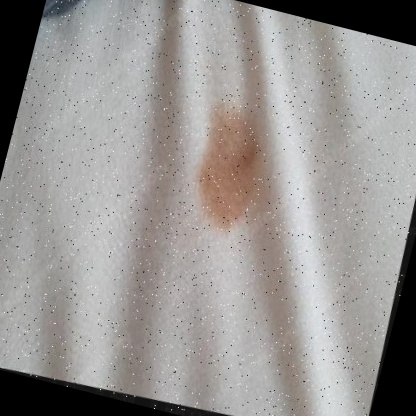kimchi: (176, 97, 287, 235)
